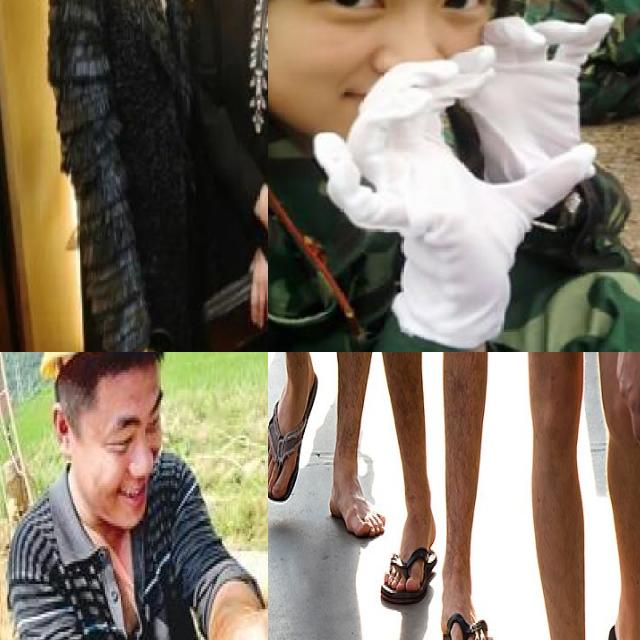No_Ear-Protection: (45, 400, 78, 453)
No_Glasses: (95, 398, 163, 456)
Sandals: (330, 455, 386, 538), (441, 575, 496, 640)
face_nomask: (268, 0, 498, 131), (95, 387, 169, 519)
hand_glove: (318, 43, 597, 310), (449, 9, 617, 208)
hand_noglove: (249, 256, 268, 330)
person: (268, 0, 640, 352), (12, 352, 268, 640), (51, 0, 223, 352), (208, 0, 268, 352)
